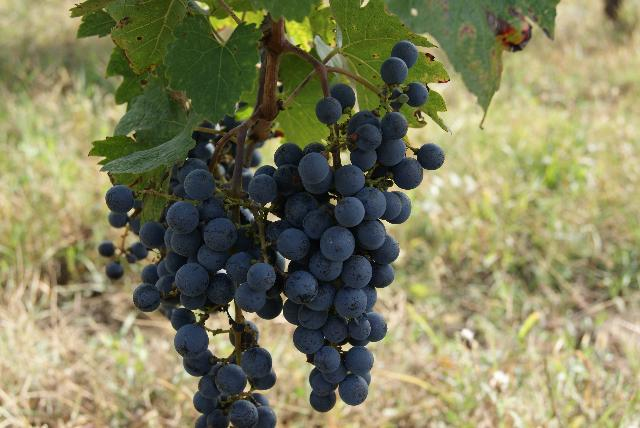grapes: (248, 40, 444, 411), (132, 150, 276, 428)
